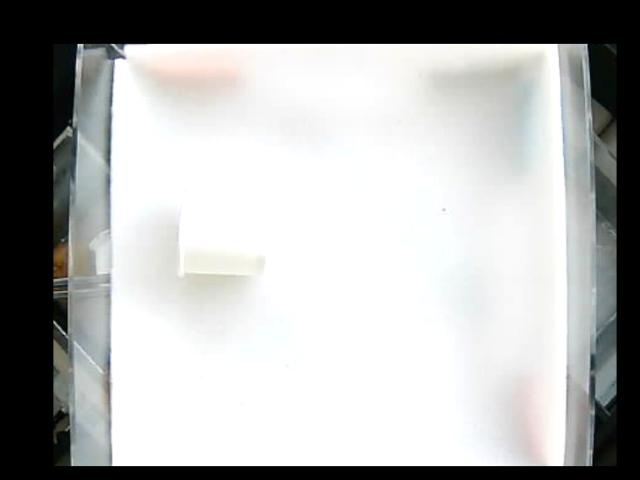Cup: (176, 180, 275, 279)
